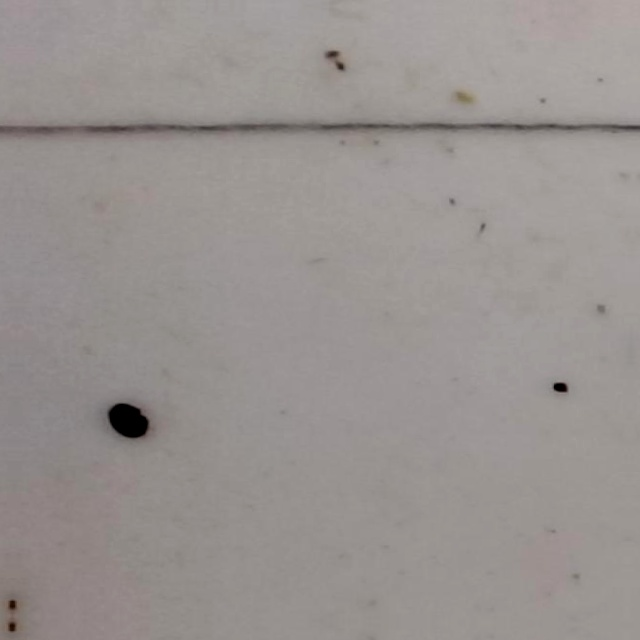varroa: (104, 401, 153, 441)
